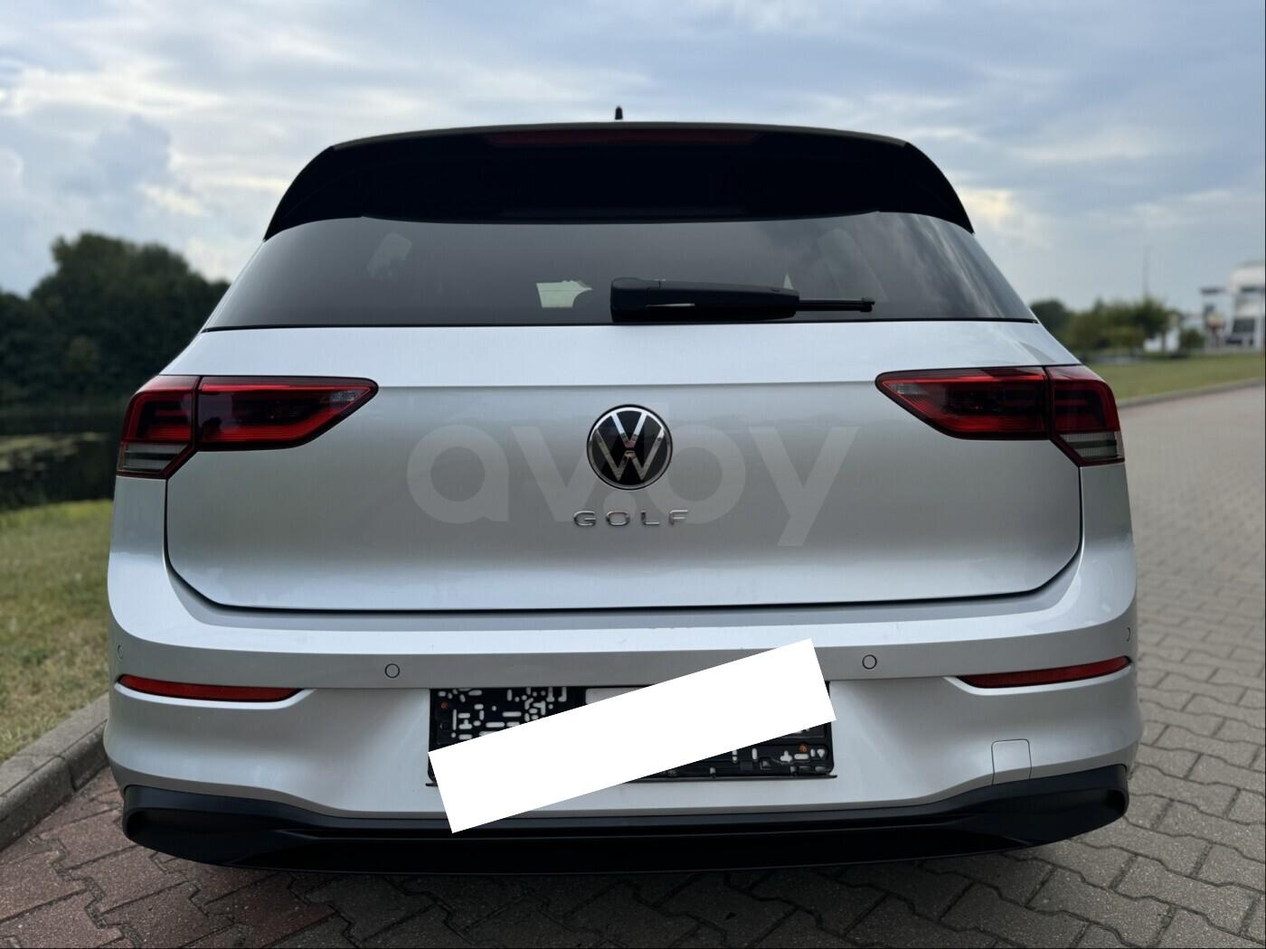Golf_2019: (98, 112, 1148, 884)
